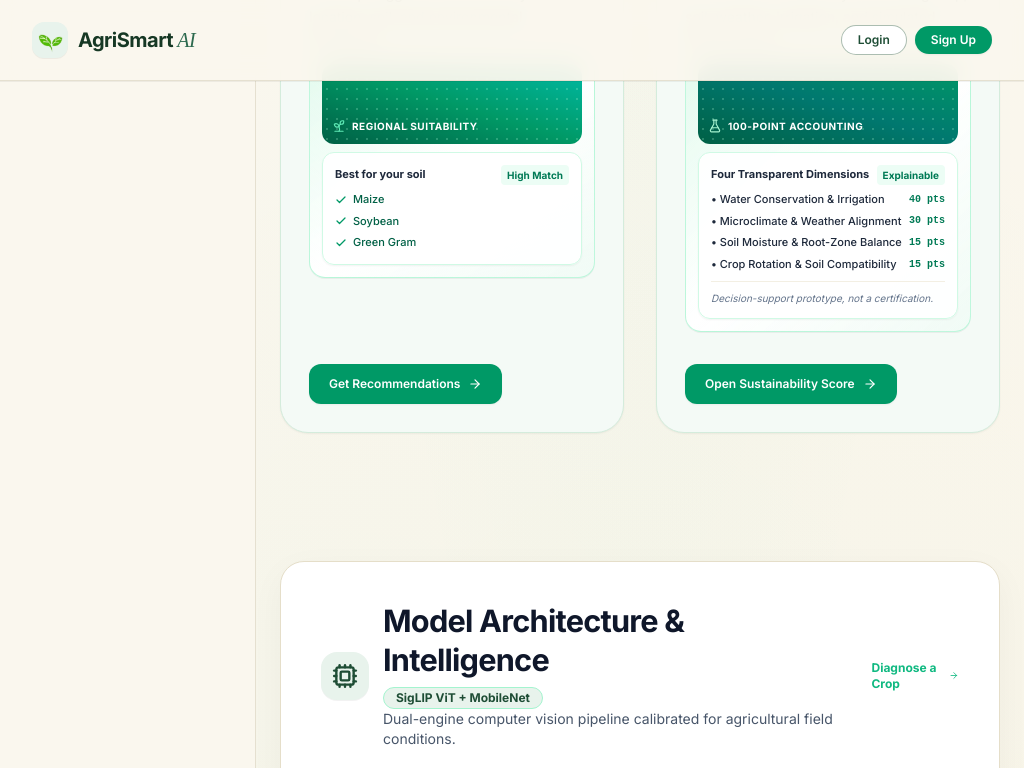
Test: Crop Recommendation Bonus Feature — Step 2 Layout and Navigation › navigates from Home to Crop Recommendation form when clicking Try Crop Recommendation
(page scrolled)
Step 1. Click the button with aria-label "try crop recommendation" → (406, 384), box [309,364,502,404]
(page scrolled)
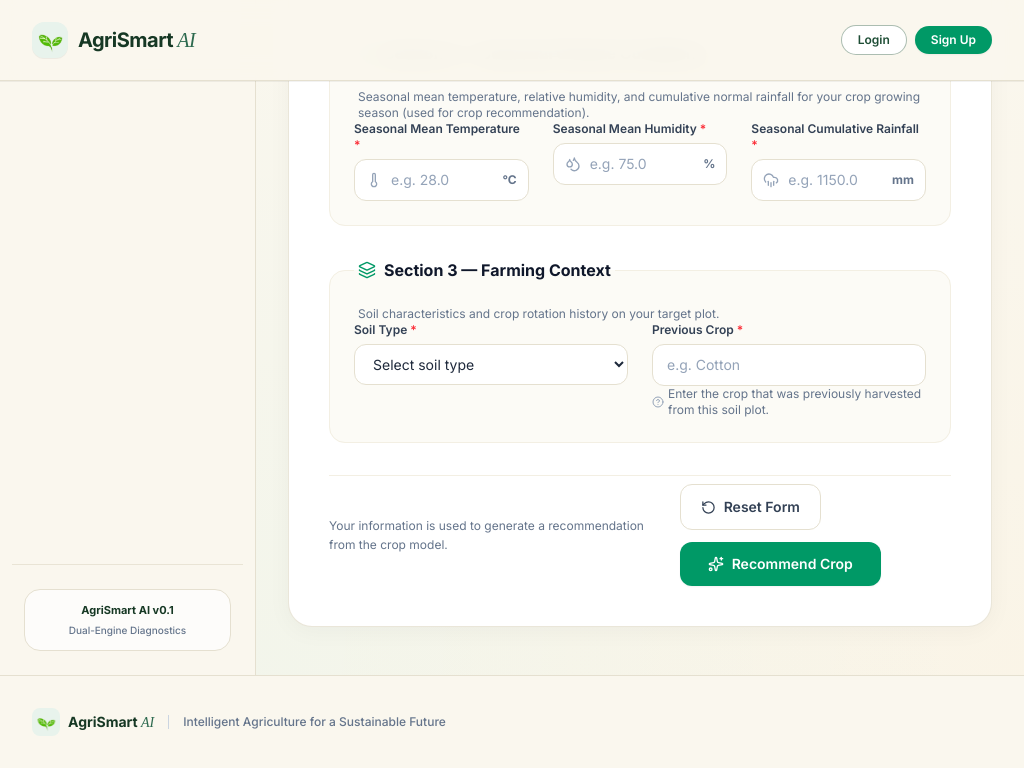
Expected: the button "Recommend Crop" is shown, [680,542,881,586]
